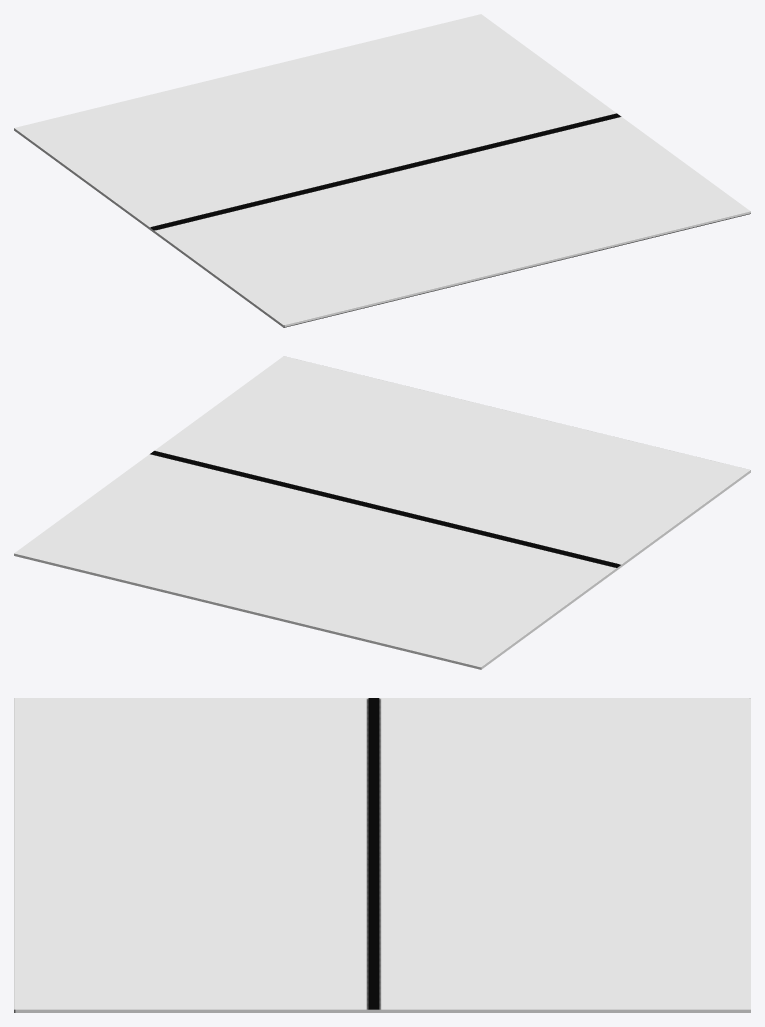
The model's file is straight_stage.dae.
3 views of the same model, one above another, from view 1: azimuth 30°, elevation 25°; view 2: azimuth 150°, elevation 25°; view 3: azimuth 270°, elevation 25° (orthographic). The views are drawn at different scales.
Parts seen in each view (by area): view 1: Plane; view 2: Plane; view 3: Plane.
Boxes of the visible parts, <box> form: Plane: <box>14,14,750,327</box>; Plane: <box>14,356,750,669</box>; Plane: <box>14,698,750,1012</box>.
Bounding box in the file's own units: 2 × 2 × 0.01.
1 material, 1 textured.
